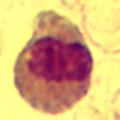lymphocyte: (11, 7, 92, 111)
